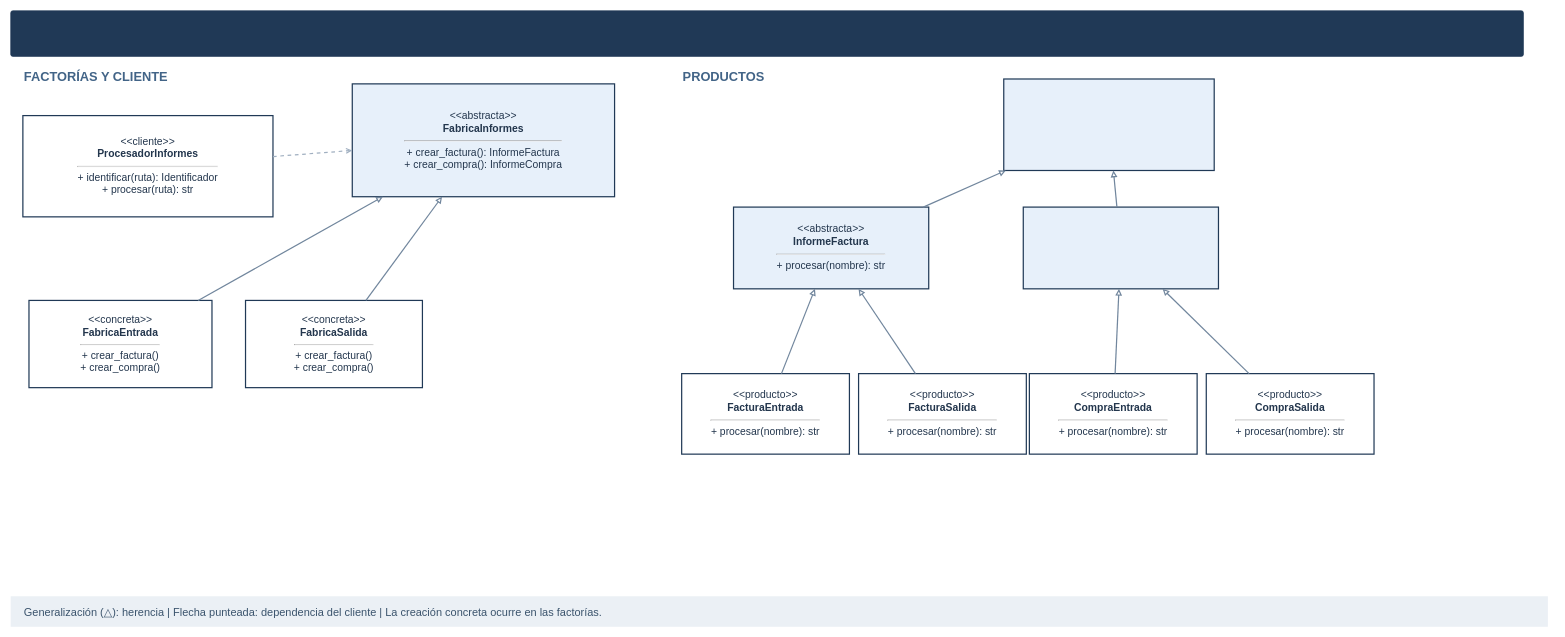
The diagram is 1565 pixels wide and 637 high, and some of its shapes have lost their labels. The centre of each missing label's shape, as x and y in pixels:
"<<abstracta>> Informe + procesar(nombre): str" goes at (x=1109, y=124).
"<<abstracta>> InformeCompra + procesar(nombre): str" goes at (x=1120, y=247).
"V1 | Sistema inicial" goes at (x=766, y=33).
